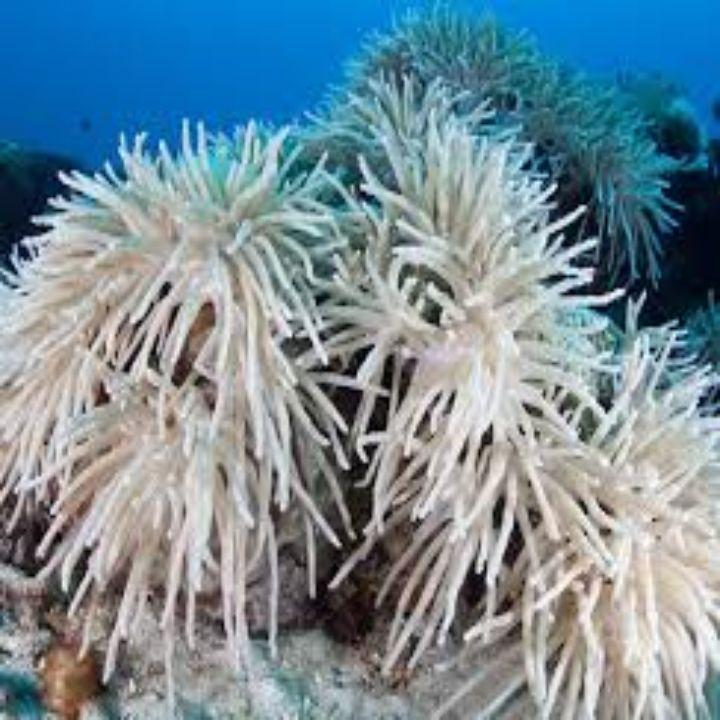Bleached-disease: (0, 17, 720, 720)
